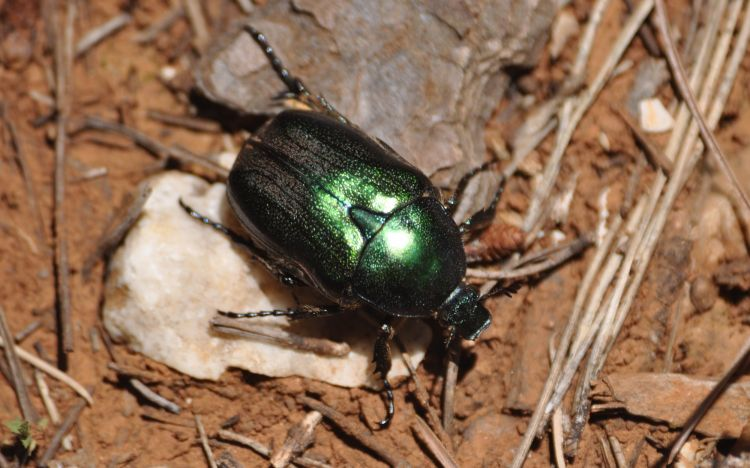Protaetia_angustata_angustata: (163, 20, 494, 432)
